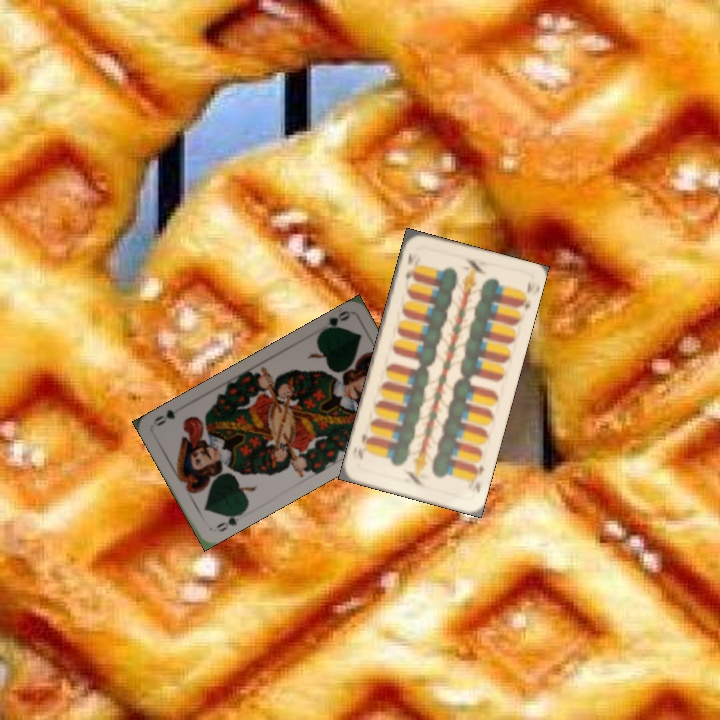E10: (468, 461, 487, 495), (402, 249, 416, 283)
GO: (316, 306, 352, 337), (211, 507, 246, 535)
